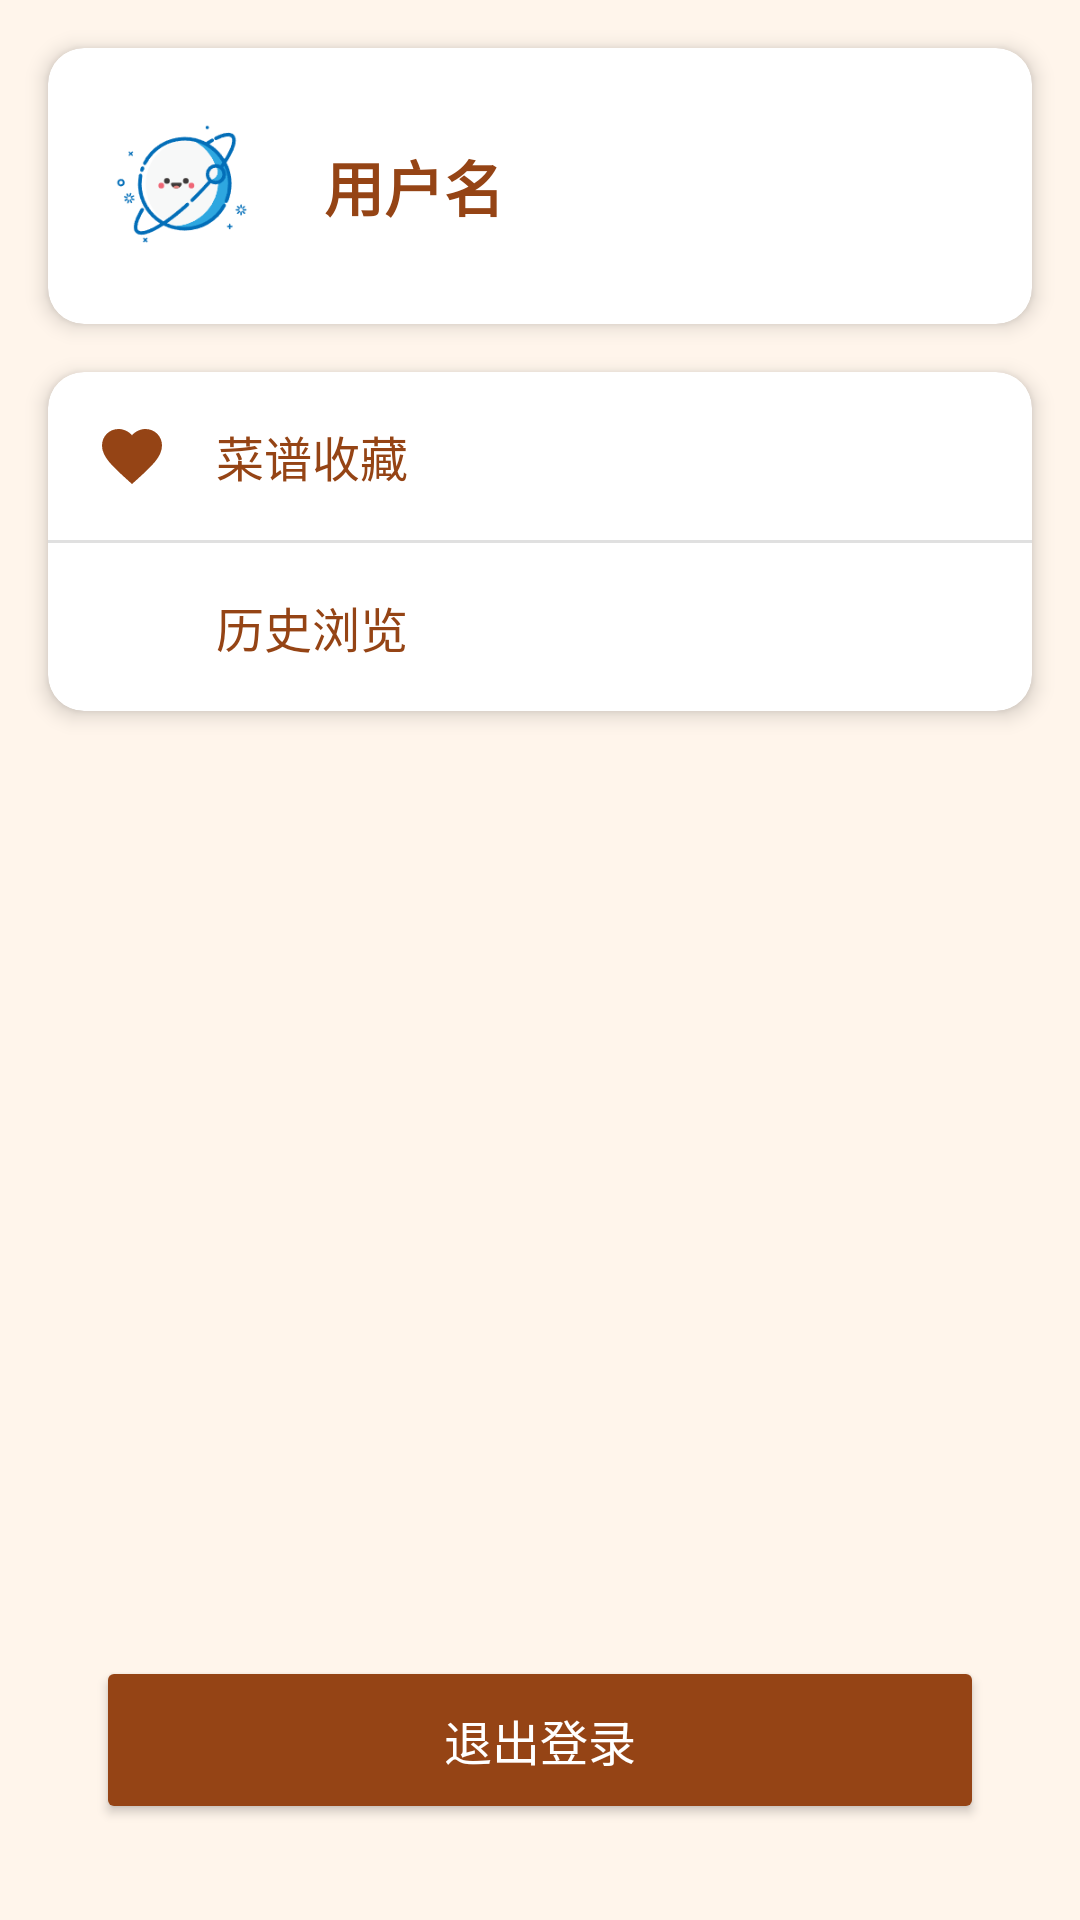

Screen size 1080x1920. Icon name, then its box in pixels as [left=x1, top=y1, right=x2, bottom=y2]:
favorite: [left=102, top=429, right=162, bottom=484]
